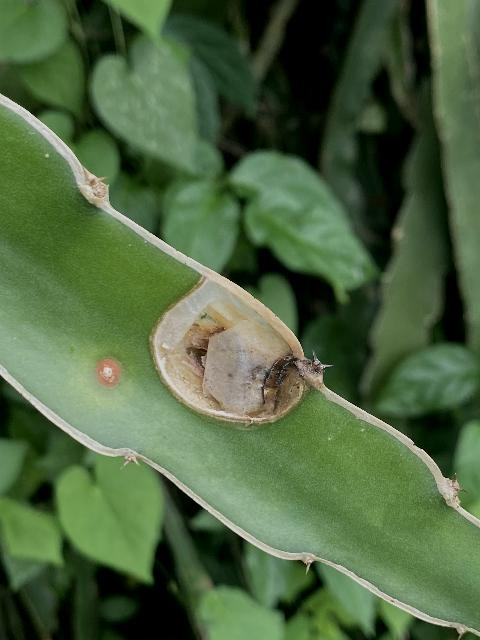stemcanker: (147, 255, 326, 433), (87, 355, 133, 398)
